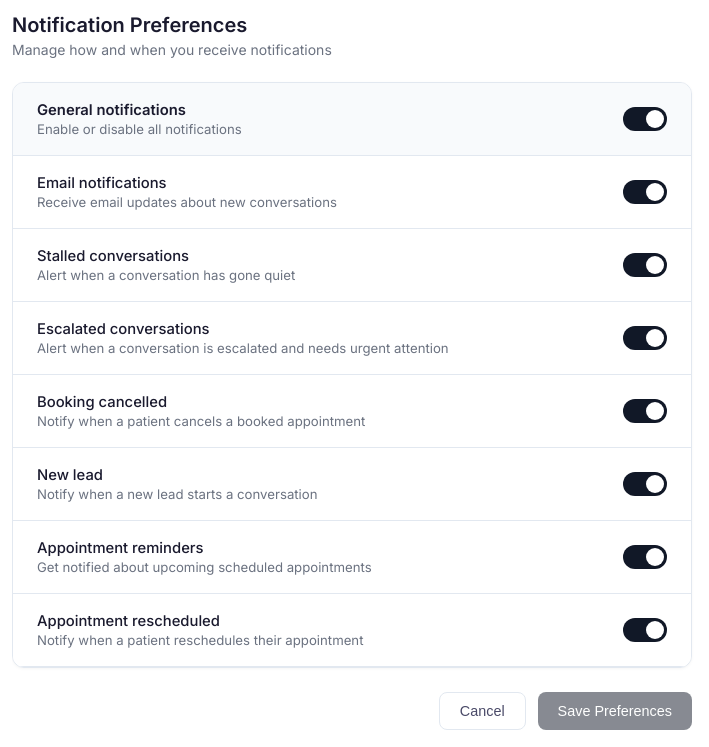
Test: NotificationPreferences › enables Save and Cancel after a change is made
Step 1. Click the switch named "Email notifications" → (645, 192), box [623,180,667,204]
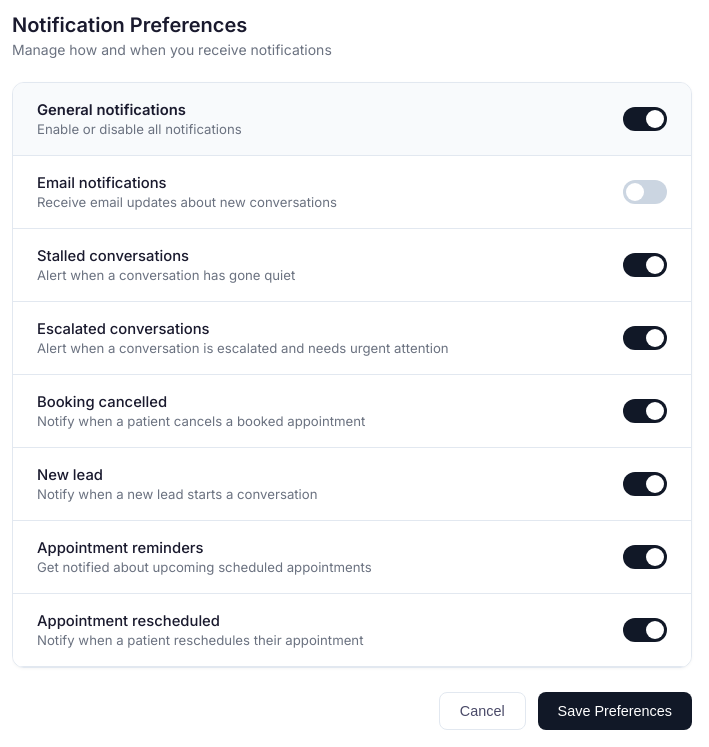
Expected: the button "Cancel" is enabled, [439,692,526,730]
Result: the button "Save Preferences" is enabled at [538,692,692,730]
